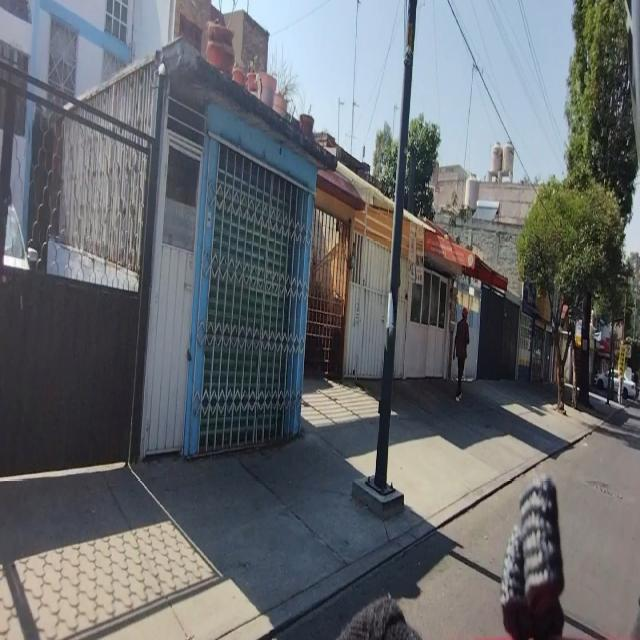adult: (453, 307, 470, 400)
